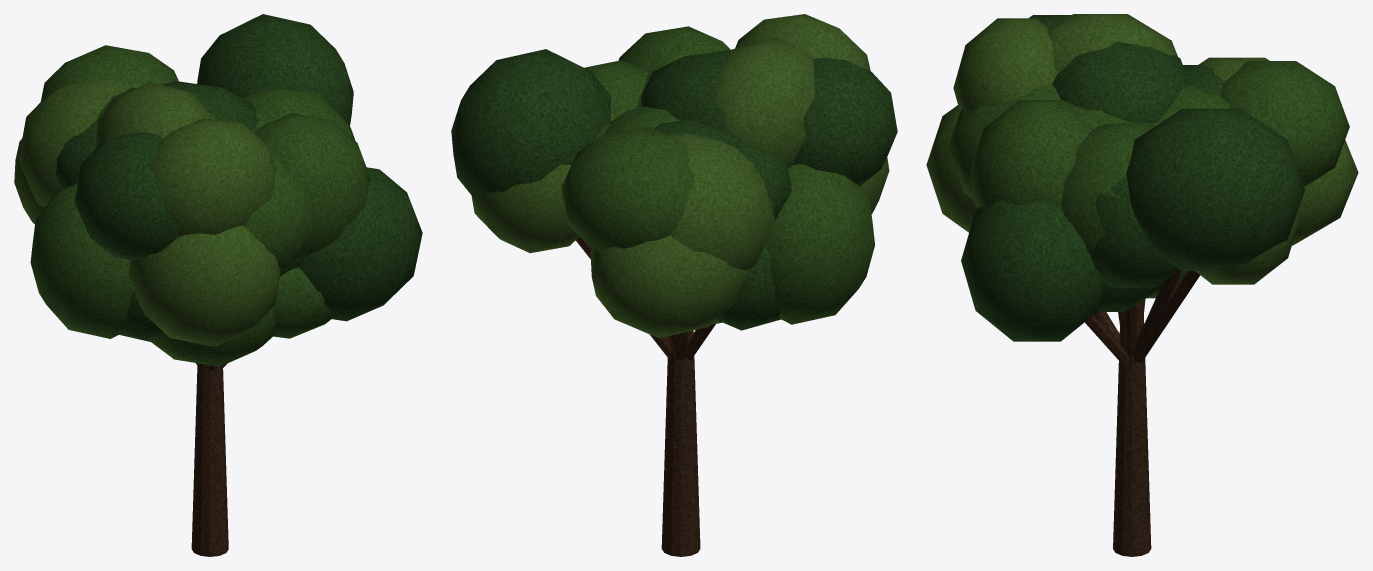
Rendered from Tree_Broadleaf_12m_LOD0.glb.
The picture shows the model from 3 angles, left to right: view 1: azimuth 30°, elevation 25°; view 2: azimuth 150°, elevation 25°; view 3: azimuth 270°, elevation 25°; orthographic projection. The views are drawn at different scales.
Parts seen in each view (by area): view 1: Tree_Broadleaf_12m_export; view 2: Tree_Broadleaf_12m_export; view 3: Tree_Broadleaf_12m_export.
Part boxes in pixels (x1,y1,x2,y2): Tree_Broadleaf_12m_export: (14,14,422,556); Tree_Broadleaf_12m_export: (451,14,897,556); Tree_Broadleaf_12m_export: (926,14,1358,556).
Bounding box in the file's own units: 8.41 × 11.54 × 9.02.
Materials: 4 (4 with a texture image).
